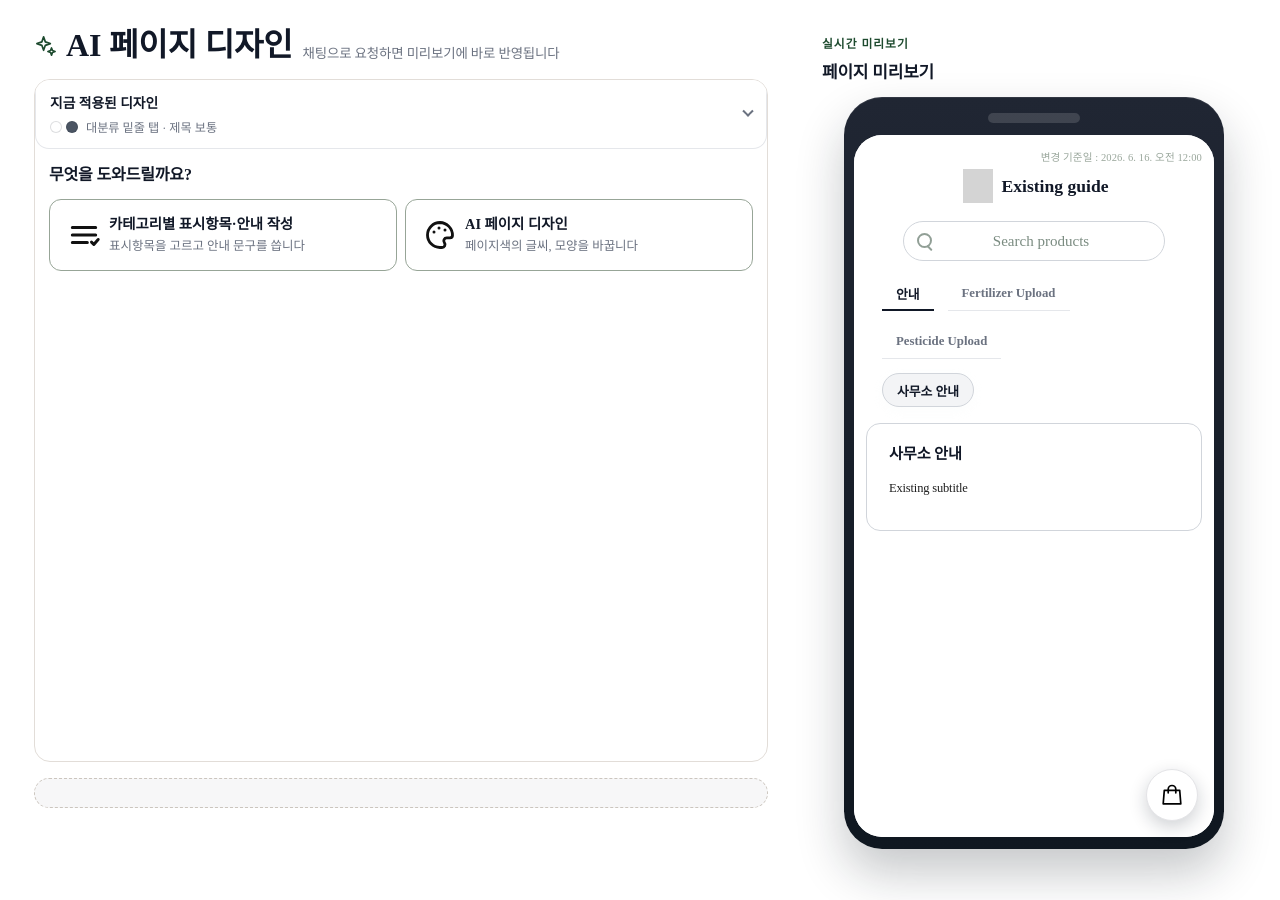
Test: StorefrontBuilderPage › sends a common-elements prompt through requestPageStyleAiIntent and shows the reply
Click the button "AI 페이지 디자인 페이지색의 글씨, 모양을 바꿉니다": click(440, 235) left=405, top=199, right=753, bottom=271
(page scrolled)
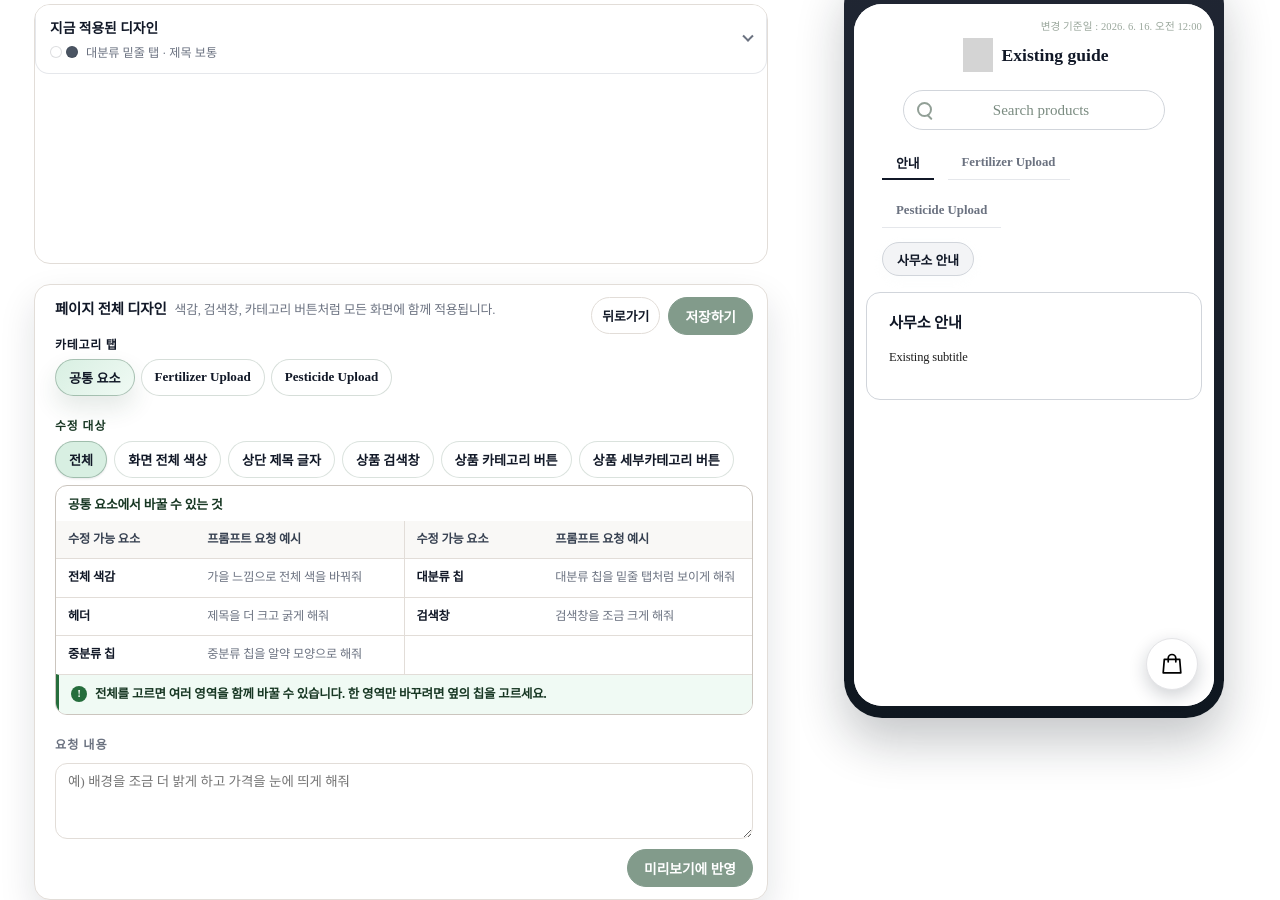
In the text box with test id "storefront-chat-composer-input": (404, 801) left=55, top=763, right=753, bottom=839, type "Refresh the page tone and search area."
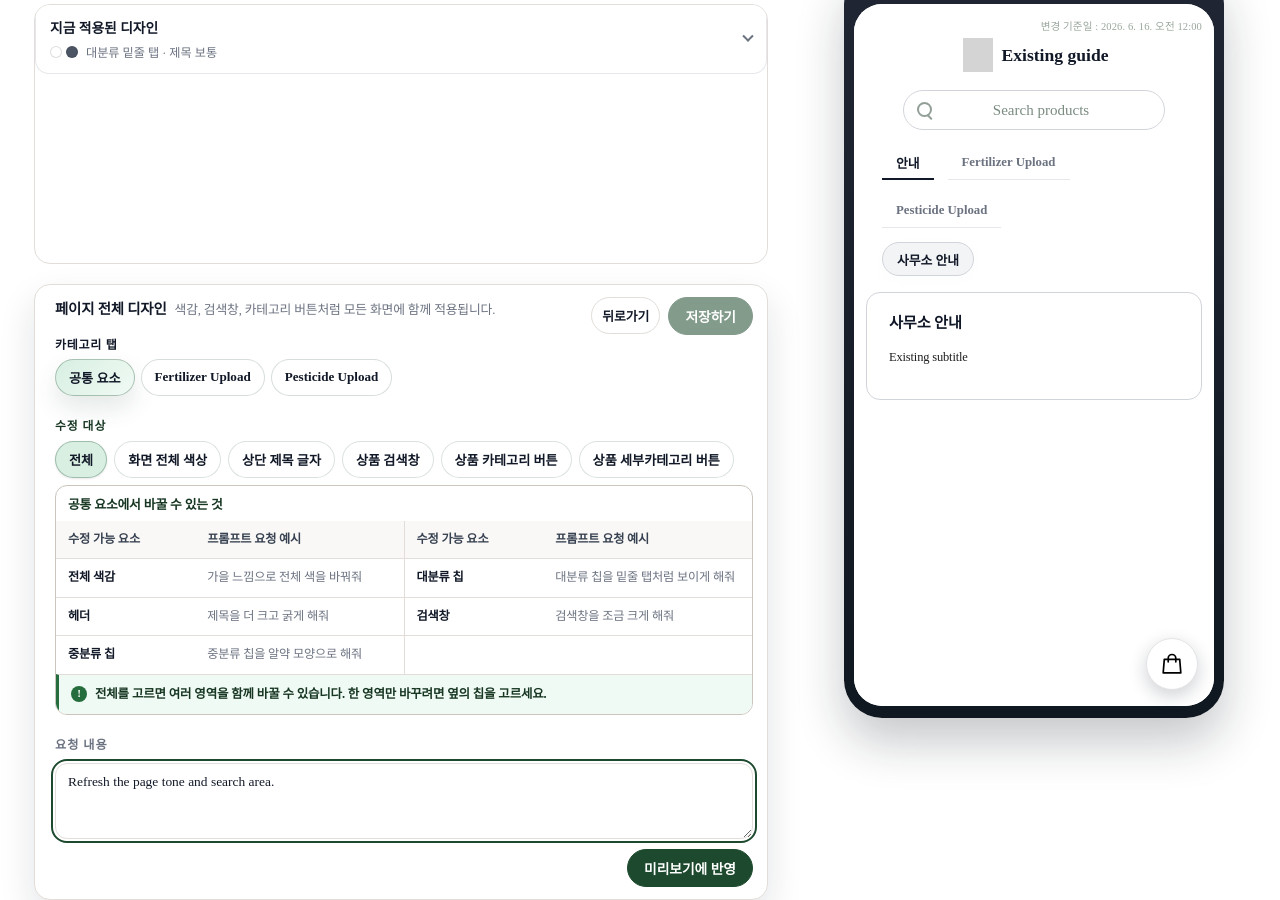
Click the button with test id "storefront-chat-composer-send": click(690, 868) left=627, top=849, right=753, bottom=887
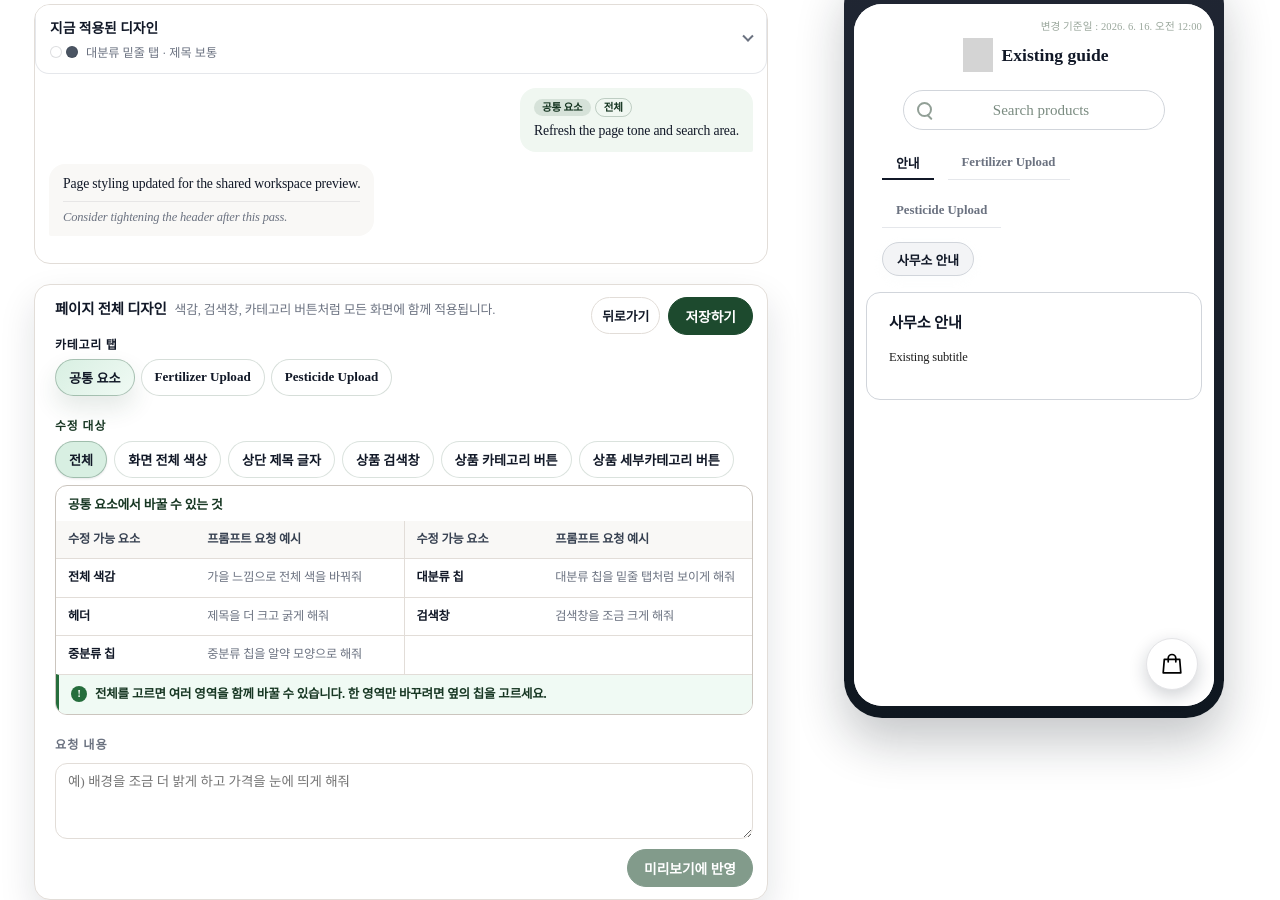
Expected: the text "Page styling updated for the shared workspace preview." is shown, left=63, top=174, right=360, bottom=195
